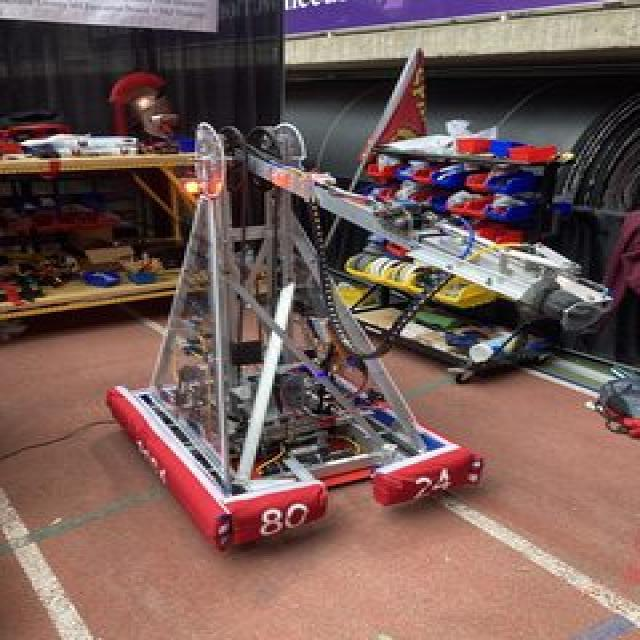robot: (104, 101, 583, 553)
